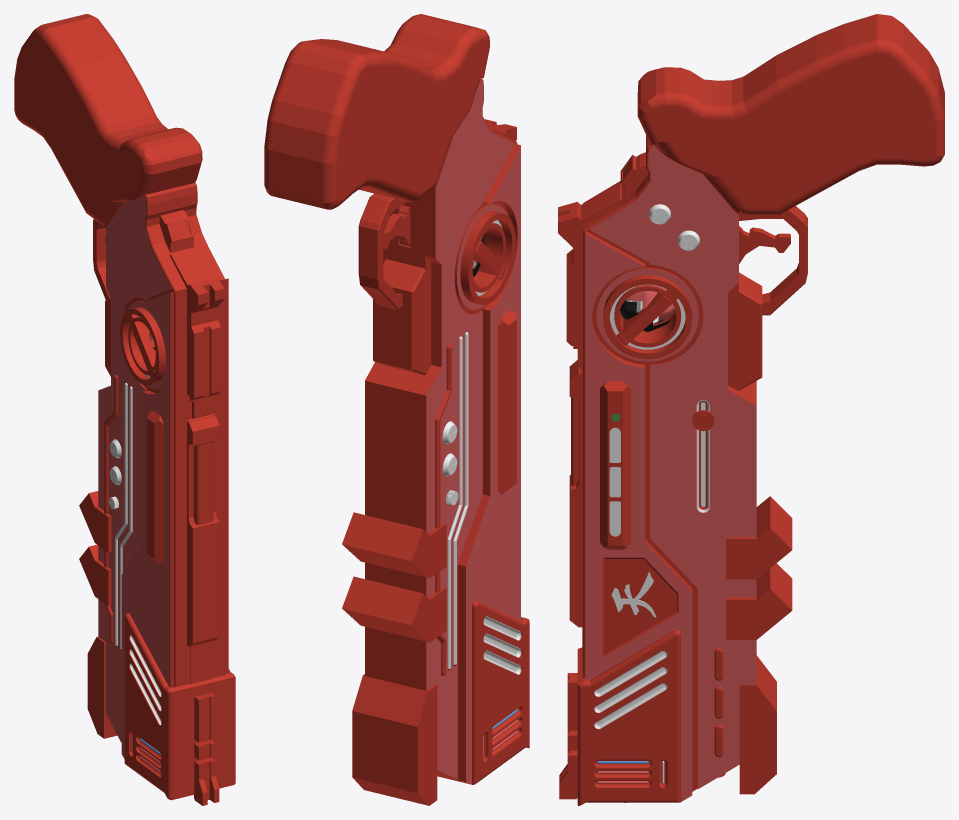
Rendered from Gun Model v6.fbx.
3 renders of one model, left to right at view 1: azimuth 30°, elevation 25°; view 2: azimuth 150°, elevation 25°; view 3: azimuth 270°, elevation 25°, orthographic. The views are drawn at different scales.
Parts seen in each view (by area): view 1: Body23, Body3; view 2: Body23, Body3; view 3: Body3, Body23, Body30.
Boxes of the visible parts, left/top/right/bottom form: Body23: left=14, top=19, right=208, bottom=805; Body3: left=64, top=14, right=235, bottom=802; Body23: left=295, top=20, right=529, bottom=805; Body3: left=264, top=14, right=496, bottom=797; Body3: left=558, top=26, right=944, bottom=805; Body23: left=558, top=14, right=944, bottom=780; Body30: left=611, top=571, right=656, bottom=617.
Bounding box in the file's own units: 41.64 × 381 × 174.
